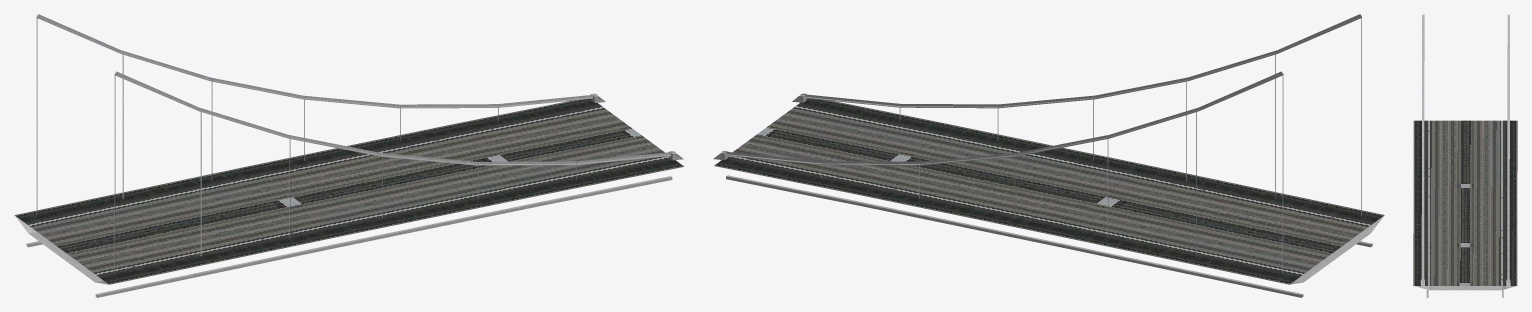
Rendered from lodbaybridge1_sfse.obj.
The picture shows the model from 3 angles, left to right: view 1: azimuth 30°, elevation 25°; view 2: azimuth 150°, elevation 25°; view 3: azimuth 270°, elevation 25°; orthographic projection. The views are drawn at different scales.
Parts seen in each view (by area): view 1: LODbaybridge1_SFSe; view 2: LODbaybridge1_SFSe; view 3: LODbaybridge1_SFSe.
Part boxes in pixels (x1,y1,x2,y2): LODbaybridge1_SFSe: (14, 14, 684, 297); LODbaybridge1_SFSe: (713, 14, 1384, 297); LODbaybridge1_SFSe: (1413, 14, 1517, 297).
Size of the model in its own units: 141 by 57.39 by 40.14.
2 materials, 2 textured.
